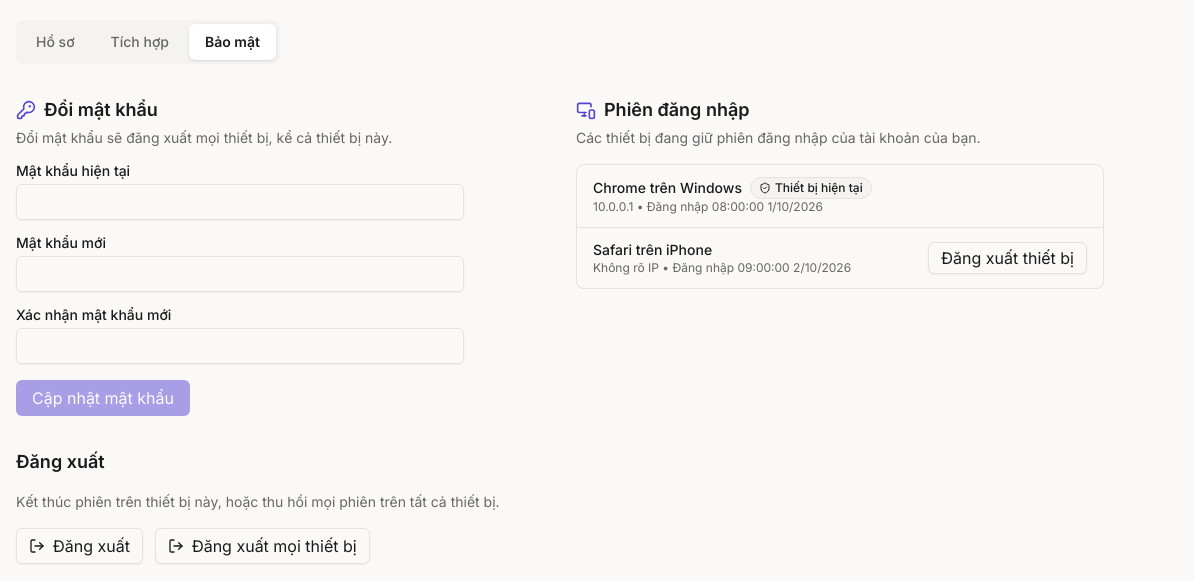
Test: IdentitySecurityPage — devices › keeps the list and shows a toast when revoke fails
Click the button "Đăng xuất thiết bị" at [1008, 258], box [928,242,1087,274]
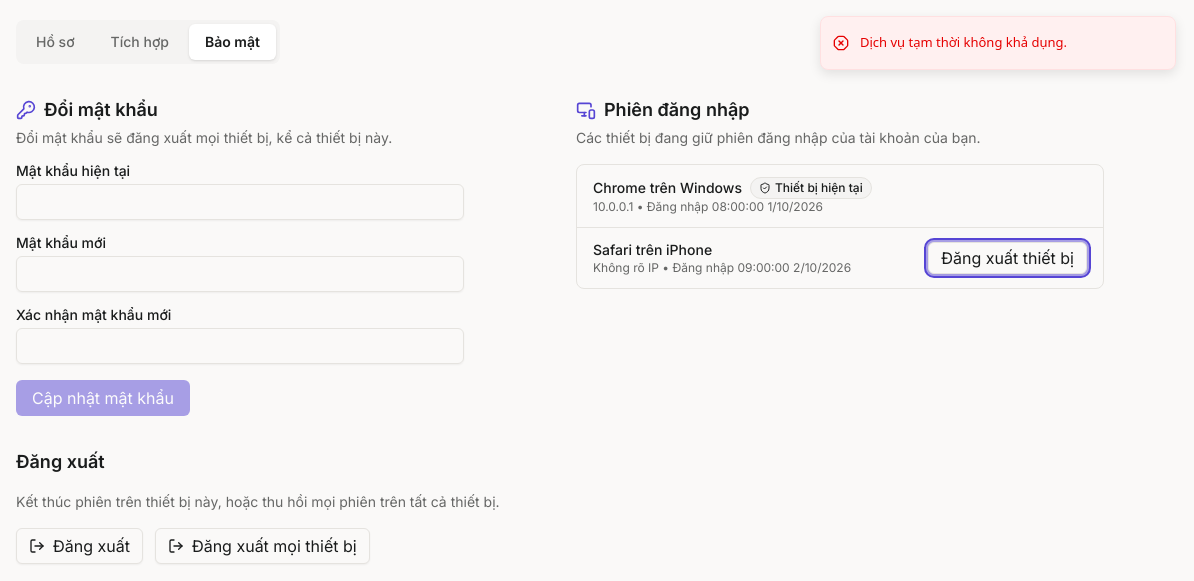
Expected: the text "Safari trên iPhone" is shown, [593,240,712,260]
Expected: the text "Dịch vụ tạm thời không khả dụng." is shown, [860,33,1067,52]
